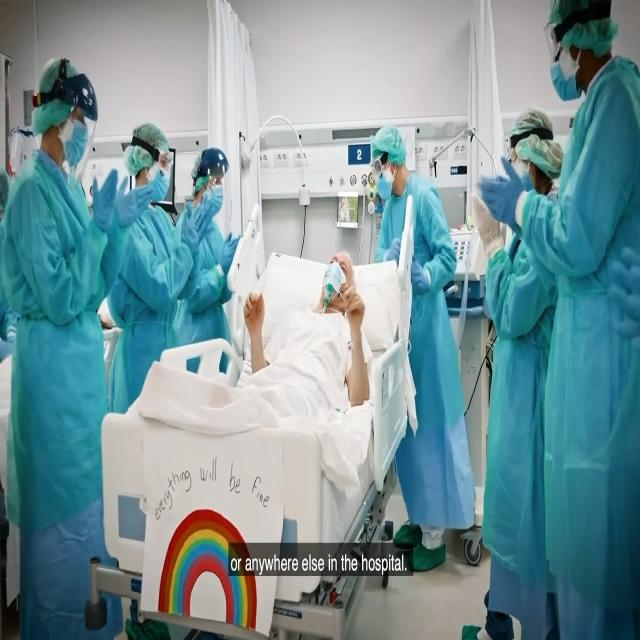Doctor: (529, 0, 640, 640), (6, 53, 119, 614), (482, 75, 558, 598), (106, 103, 186, 403), (184, 136, 242, 332)
Nurse: (366, 115, 482, 559)
Patient: (297, 245, 370, 378)
